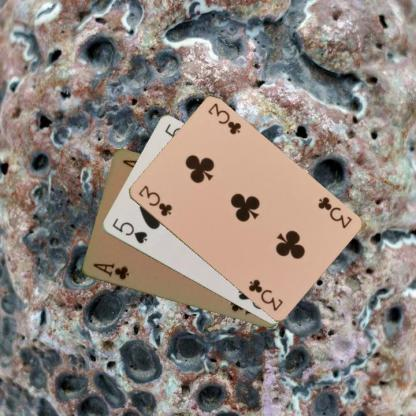3c: (314, 194, 353, 230), (136, 182, 174, 218)
5s: (109, 216, 149, 245)
Ac: (90, 260, 131, 282)
